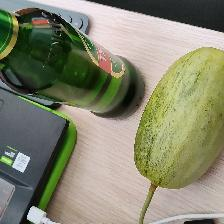gua: (139, 44, 211, 186)
